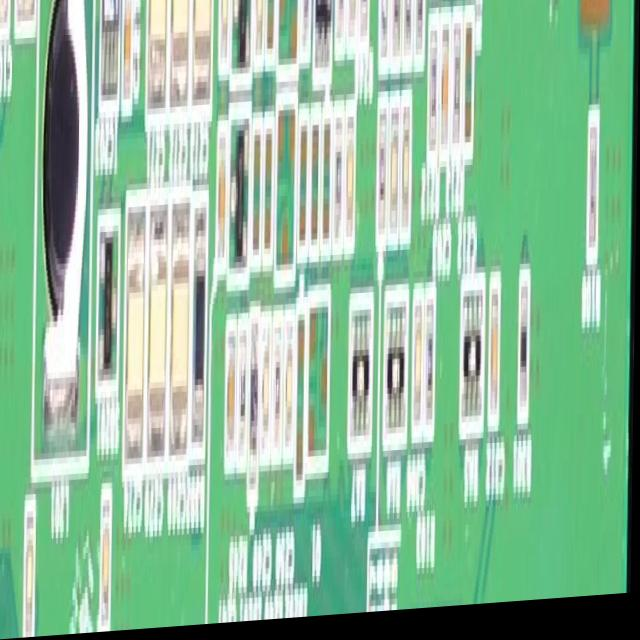IC: (101, 0, 117, 91)
capacitor: (168, 195, 192, 480), (124, 203, 147, 482), (147, 196, 168, 481), (190, 0, 209, 103), (148, 0, 166, 100), (170, 0, 189, 87), (26, 495, 37, 637), (285, 314, 295, 437), (218, 146, 229, 250), (263, 315, 271, 452), (103, 496, 111, 633), (123, 0, 132, 107), (415, 307, 424, 413), (346, 122, 354, 241), (391, 114, 398, 239), (440, 42, 447, 166), (227, 341, 235, 447), (491, 308, 498, 429), (403, 119, 410, 230), (218, 0, 228, 67), (347, 0, 355, 54), (255, 0, 262, 54), (0, 0, 6, 34), (16, 0, 35, 10)
resistor: (237, 328, 249, 454), (298, 308, 306, 497), (273, 315, 283, 461), (464, 12, 475, 142), (425, 295, 434, 439), (452, 25, 462, 146), (264, 138, 273, 263), (430, 20, 438, 157), (322, 124, 331, 235), (301, 119, 307, 252), (379, 126, 386, 233), (336, 134, 343, 241), (299, 0, 308, 63), (311, 130, 316, 238), (254, 145, 259, 246), (390, 0, 398, 63), (402, 0, 410, 57), (335, 0, 342, 60), (380, 0, 388, 47), (415, 0, 421, 62), (265, 0, 272, 53), (362, 0, 368, 36)
